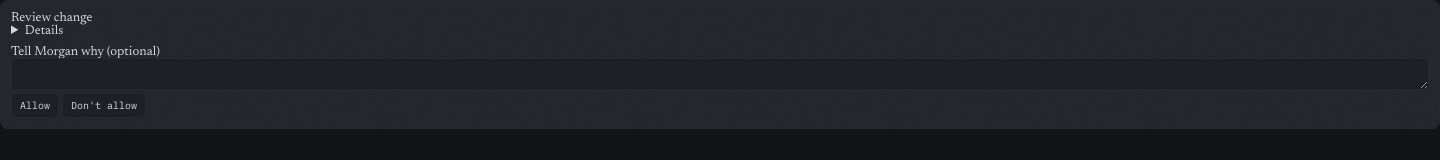
Test: MorganApprovalCard › keeps both answer buttons disabled after answering until the card is removed
Click the button "Allow".
click(35, 106)  # box [11,93,59,118]
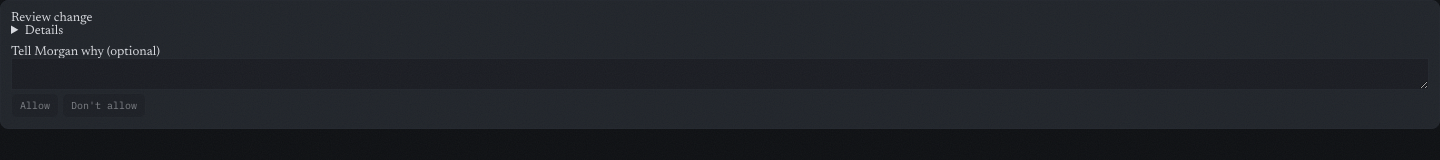
Expected: the button "Allow" is disabled, [11,93,59,118]
Expected: the button "Don't allow" is disabled, [62,93,146,118]
